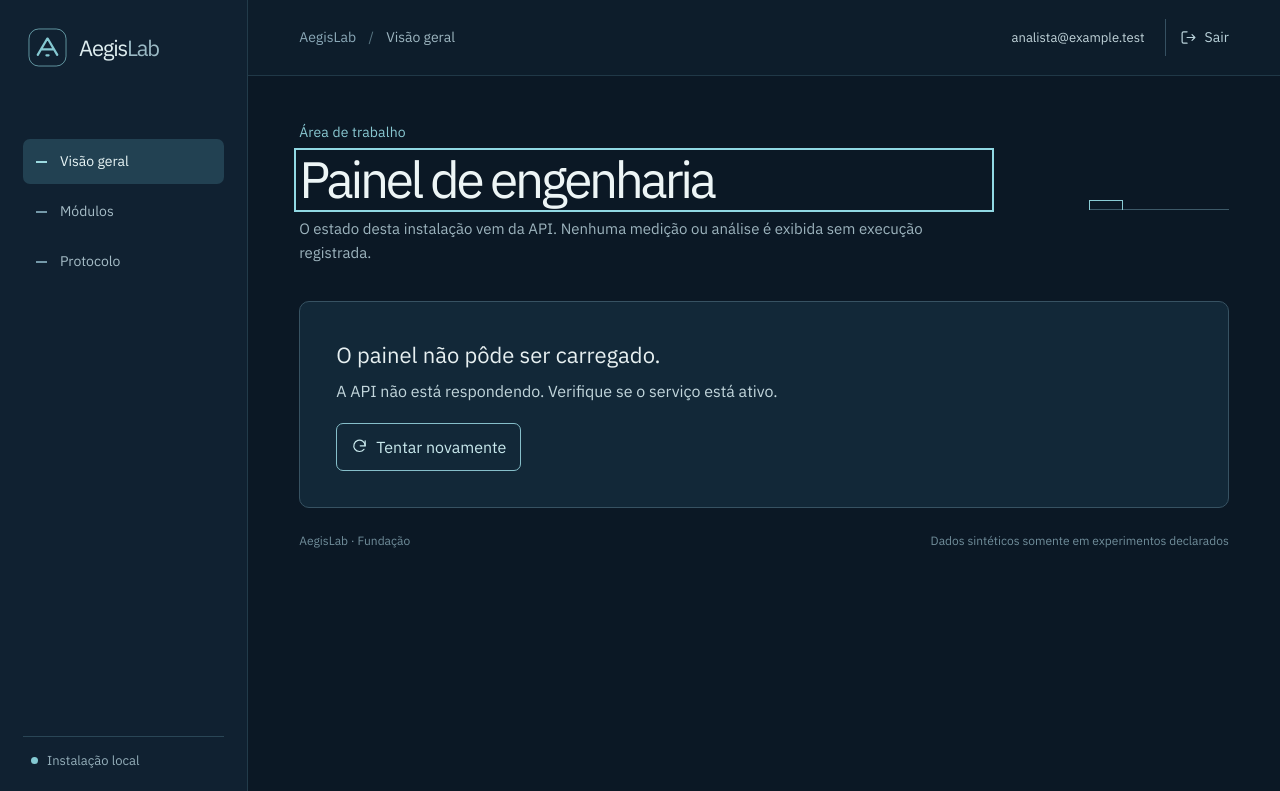
it: AegisLab interface › restores a session and recovers from a temporary dashboard error
Expected: the heading "O painel não pôde ser carregado." is shown, x1=336 y1=340 x2=660 y2=369
Click the button "Tentar novamente": (429, 447) x1=336 y1=423 x2=521 y2=471
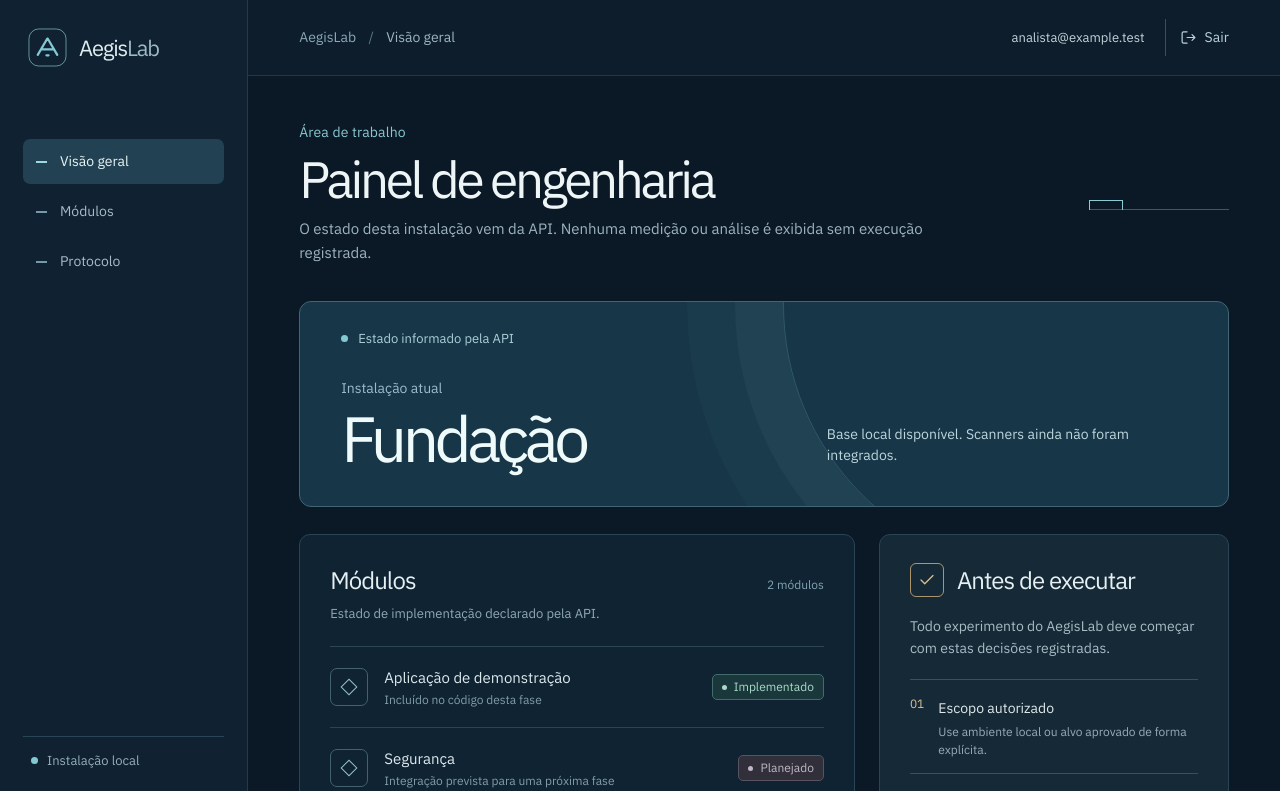
Now the heading "Aplicação de demonstração" is shown, box x1=384 y1=668 x2=571 y2=687
